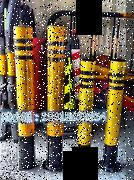bench: (40, 21, 68, 172), (70, 55, 95, 173)
